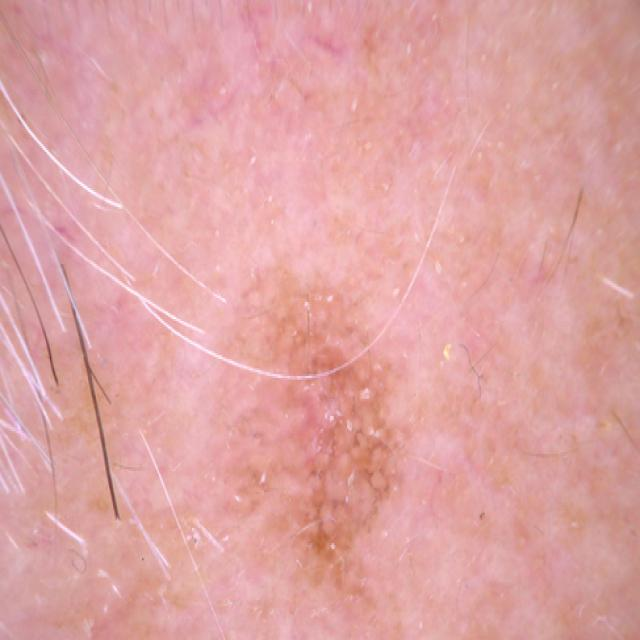Melanoma: (167, 260, 511, 640)
